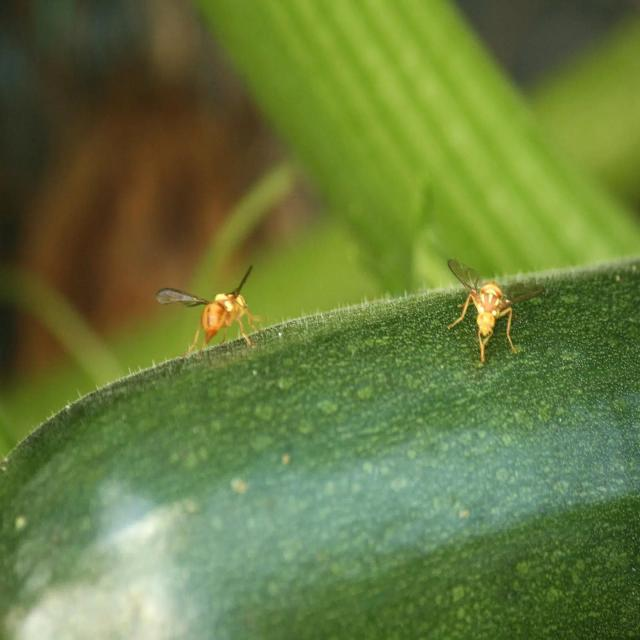Fruit fly: (149, 252, 272, 370), (439, 252, 552, 367)
